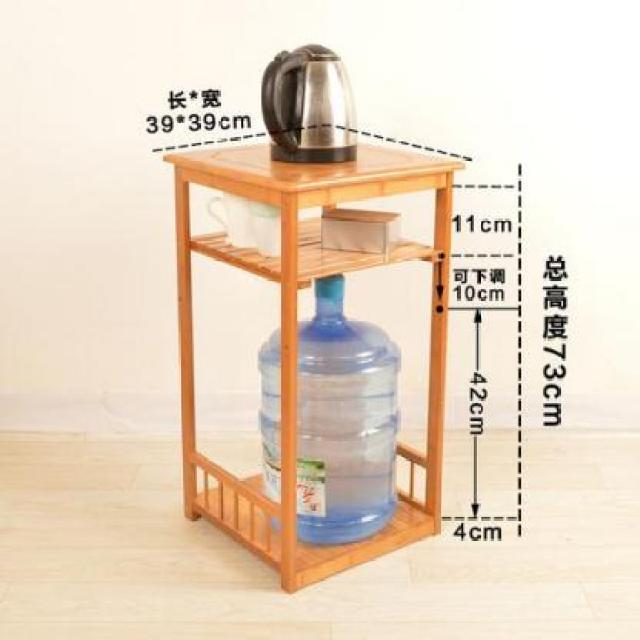coolerbottle: (252, 264, 408, 546)
